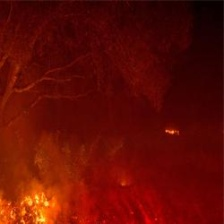fire: (1, 168, 77, 220)
